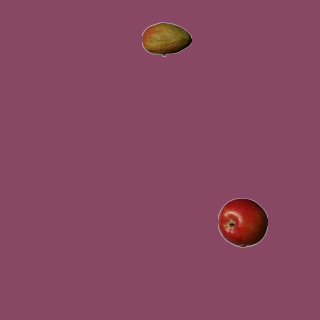Apple Braeburn: (217, 197, 267, 247)
Papaya: (141, 14, 191, 64)
